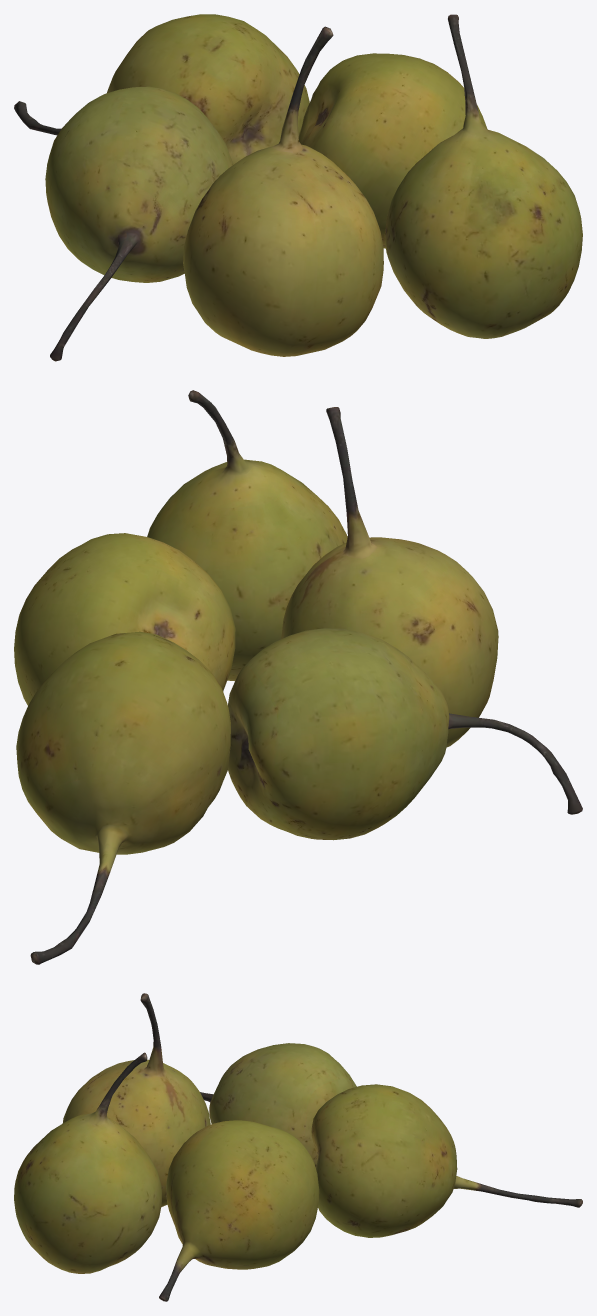
Rendered from food_pears_asian_01.glb.
3 views of the same model, one above another, from view 1: azimuth 30°, elevation 25°; view 2: azimuth 150°, elevation 25°; view 3: azimuth 270°, elevation 25° (orthographic). The views are drawn at different scales.
Parts seen in each view (by area): view 1: food_pears_asian_01_c, food_pears_asian_01_e, food_pears_asian_01_a, food_pears_asian_01_d, food_pears_asian_01_b; view 2: food_pears_asian_01_b, food_pears_asian_01_a, food_pears_asian_01_c, food_pears_asian_01_e, food_pears_asian_01_d; view 3: food_pears_asian_01_d, food_pears_asian_01_b, food_pears_asian_01_e, food_pears_asian_01_a, food_pears_asian_01_c.
Boxes of the visible parts, x1,y1,x2,y2 form: food_pears_asian_01_c: (183, 26, 383, 356); food_pears_asian_01_e: (384, 14, 582, 338); food_pears_asian_01_a: (45, 86, 233, 361); food_pears_asian_01_d: (298, 53, 487, 248); food_pears_asian_01_b: (14, 14, 309, 164); food_pears_asian_01_b: (16, 631, 230, 964); food_pears_asian_01_a: (228, 628, 582, 840); food_pears_asian_01_c: (281, 407, 498, 747); food_pears_asian_01_e: (147, 390, 347, 681); food_pears_asian_01_d: (14, 533, 235, 705); food_pears_asian_01_d: (159, 1120, 319, 1301); food_pears_asian_01_b: (311, 1084, 582, 1237); food_pears_asian_01_e: (14, 1052, 161, 1273); food_pears_asian_01_a: (200, 1043, 356, 1167); food_pears_asian_01_c: (62, 993, 210, 1206).
Size of the model in its own units: 0.1261 by 0.0712 by 0.1669.
Materials: 1 (1 with a texture image).
